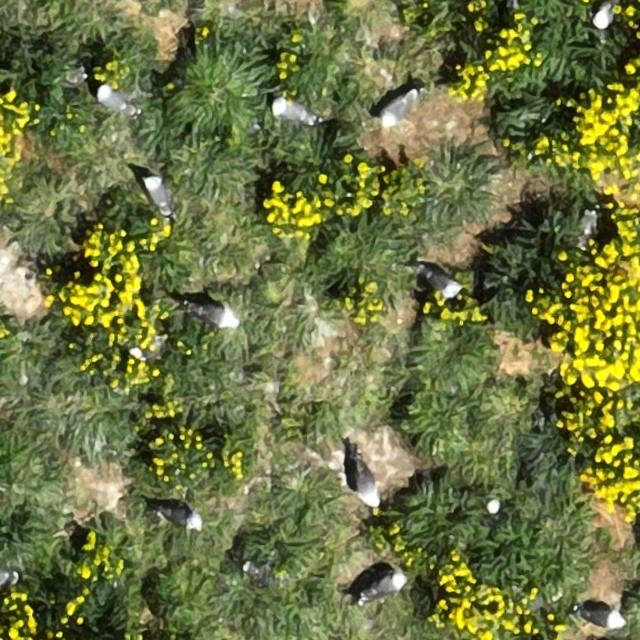umineko: (382, 93, 415, 125), (422, 268, 460, 295), (192, 304, 236, 326), (364, 573, 406, 596), (272, 99, 314, 122), (581, 607, 623, 628), (358, 468, 381, 506), (147, 176, 170, 213), (98, 88, 132, 111), (159, 509, 199, 528), (592, 2, 616, 29), (1, 571, 16, 591)
